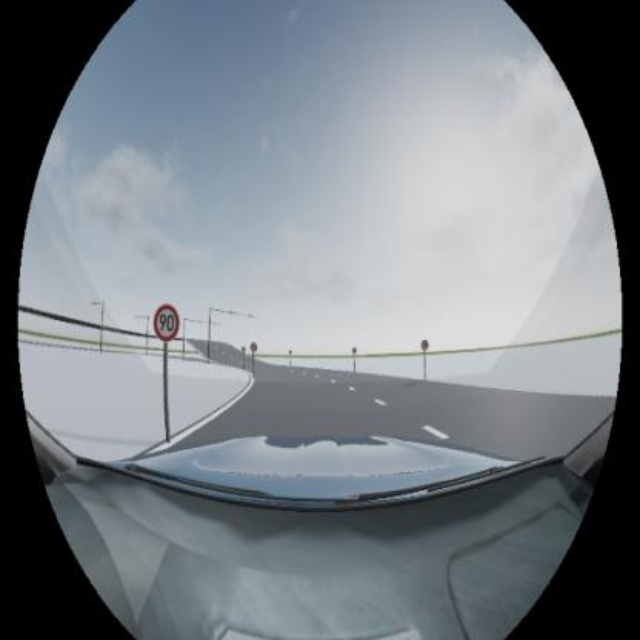Tốc độ tối đa cho phép 90km/h: (154, 304, 180, 342)
